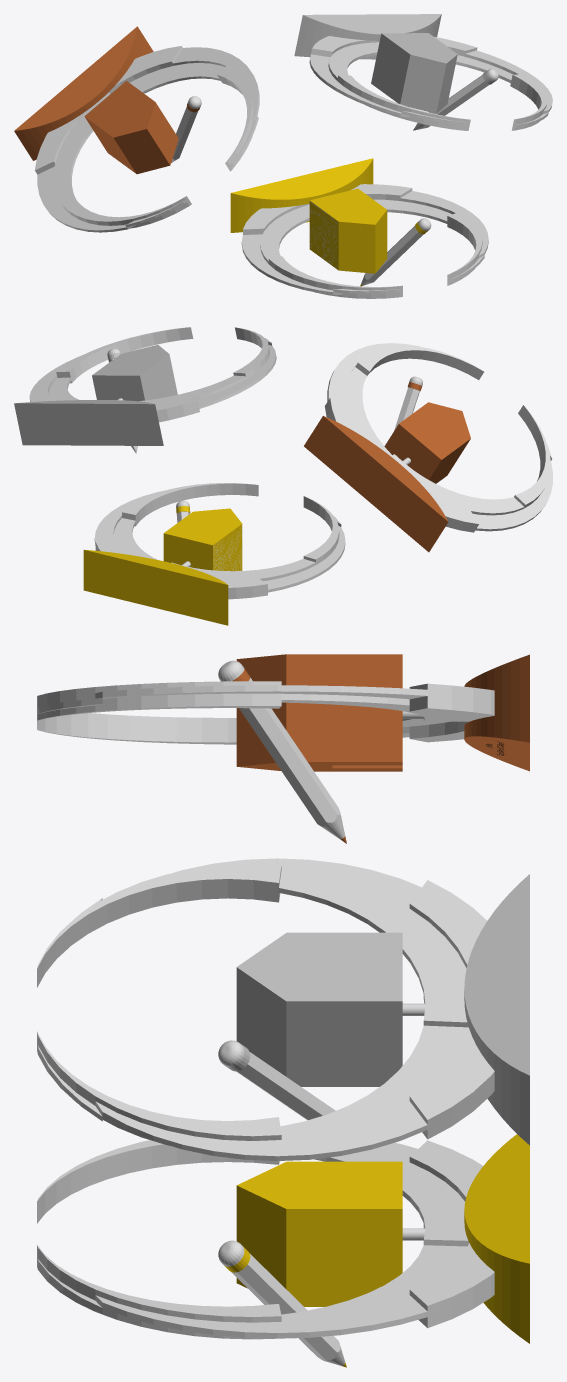
3 renders of one model, top to bottom at view 1: azimuth 30°, elevation 25°; view 2: azimuth 150°, elevation 25°; view 3: azimuth 270°, elevation 25°, orthographic. The views are drawn at different scales.
Visible parts, largest first — view 1: noble metal and crystal trophy; view 2: noble metal and crystal trophy; view 3: noble metal and crystal trophy.
Boxes of the visible parts, <box> form: noble metal and crystal trophy: <box>14,14,552,298</box>; noble metal and crystal trophy: <box>14,327,552,625</box>; noble metal and crystal trophy: <box>37,654,529,1367</box>.
Size of the model in its own units: 120 by 65.56 by 53.43.
